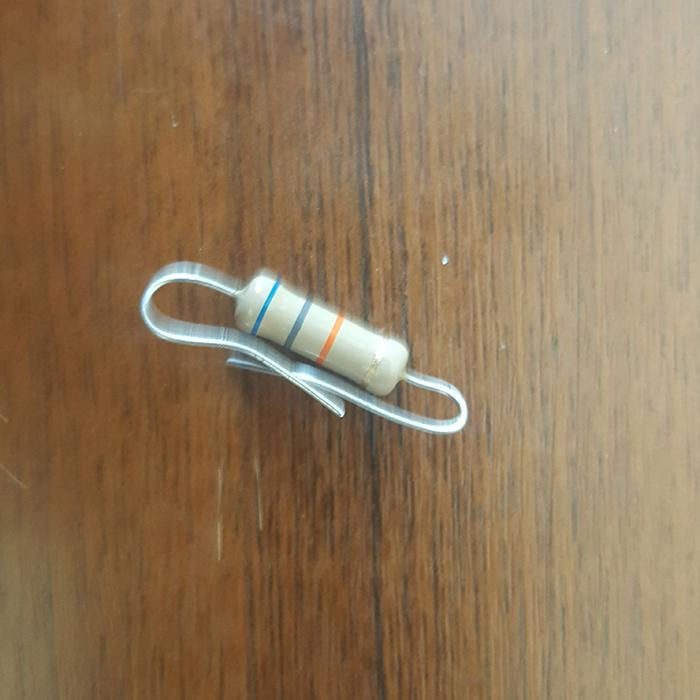resistor: (230, 269, 407, 396)
